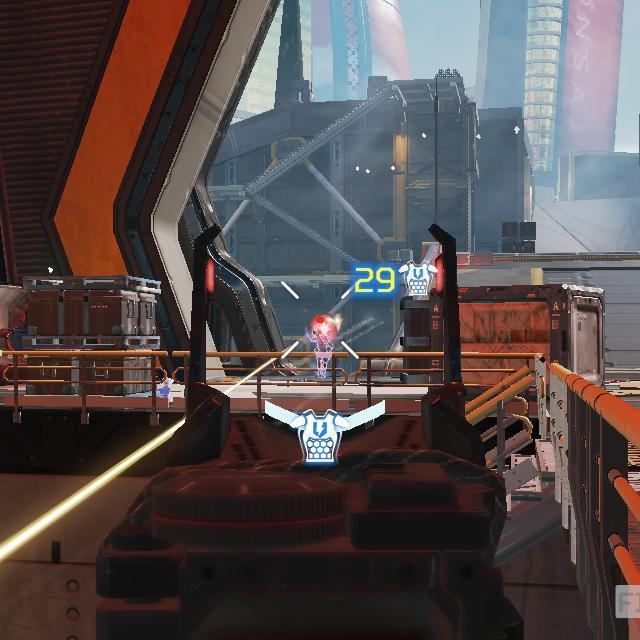avatar: (311, 315, 335, 380)
object: (311, 313, 337, 344)
